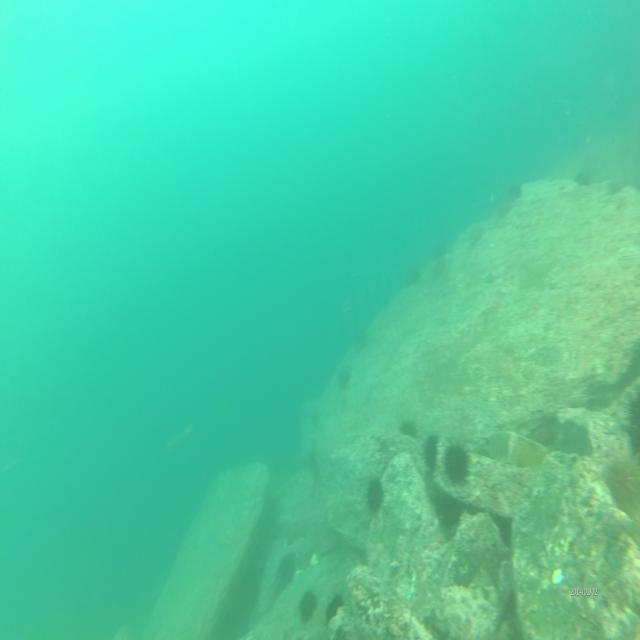echinus: (606, 452, 640, 516), (441, 437, 473, 482), (420, 430, 442, 474), (275, 551, 296, 595), (364, 476, 386, 516), (297, 586, 319, 625), (326, 590, 346, 627), (610, 166, 630, 198), (398, 413, 419, 442), (406, 258, 424, 288), (467, 220, 484, 250), (574, 166, 594, 187), (506, 181, 524, 203), (337, 366, 351, 394), (434, 234, 449, 260), (355, 323, 366, 350)
